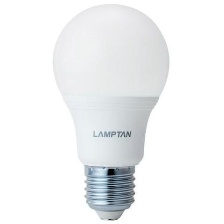light_bulb: (47, 1, 170, 224)
